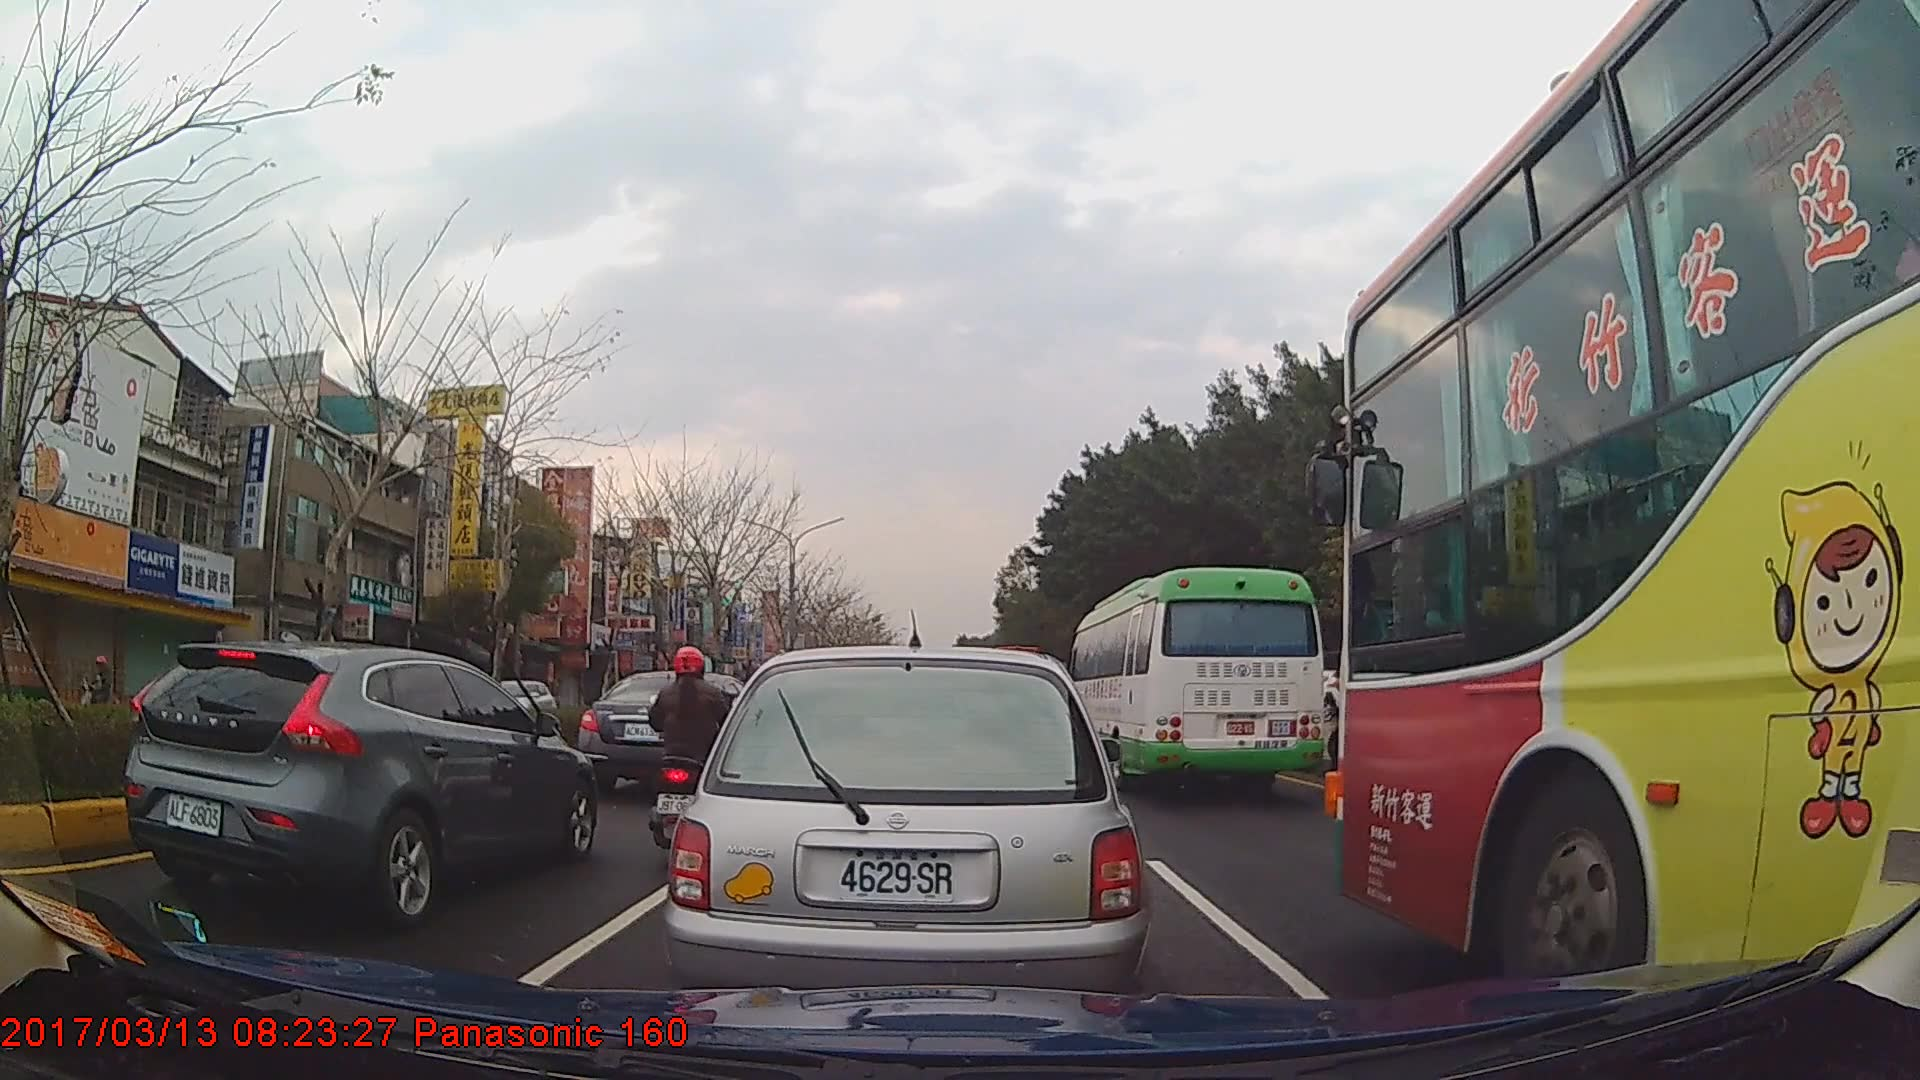rider: (645, 643, 746, 853), (80, 657, 120, 708)
vehicle: (1338, 0, 1920, 1009), (662, 639, 1151, 1024), (122, 636, 600, 930), (1064, 569, 1325, 799), (578, 669, 763, 792), (482, 678, 554, 730)
